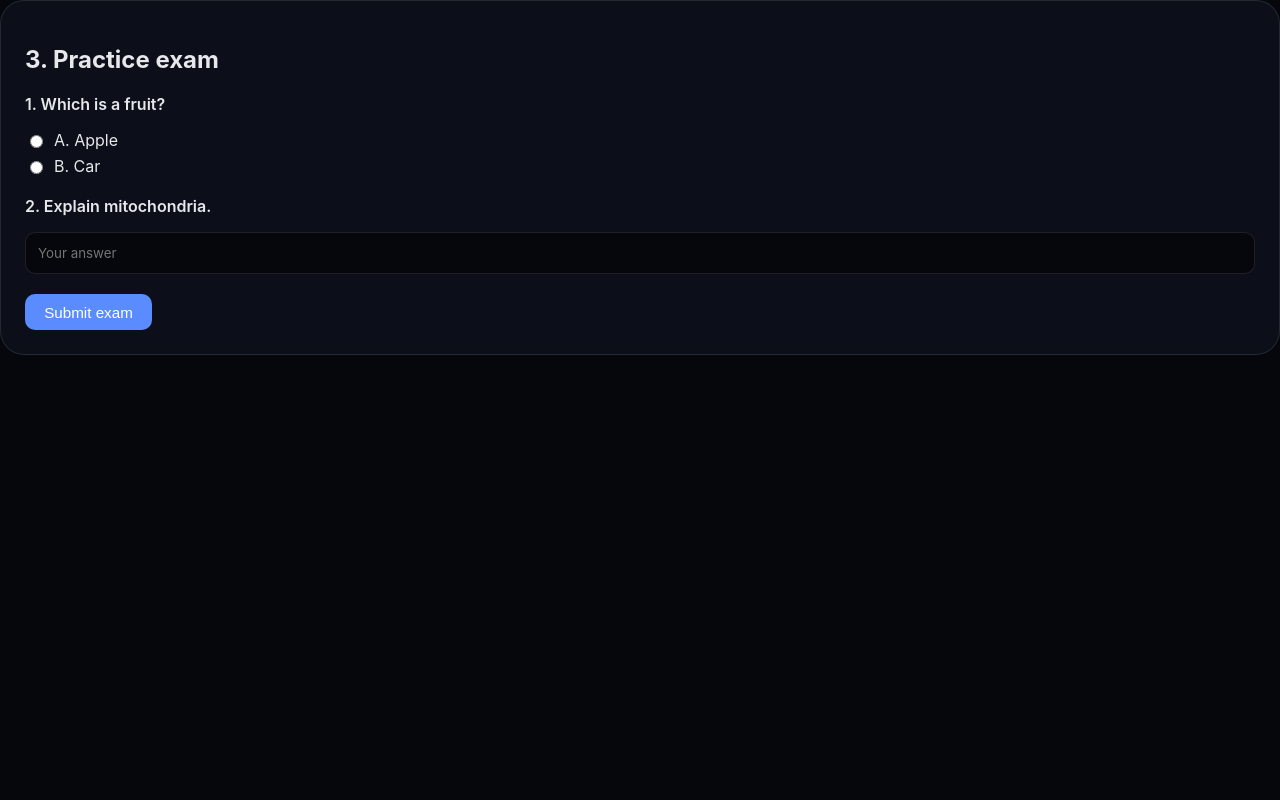
Scenario: ExamPanel › does not award XP when nothing was correct
Click the button "Submit exam" at (88, 312), box [25,294,152,330]
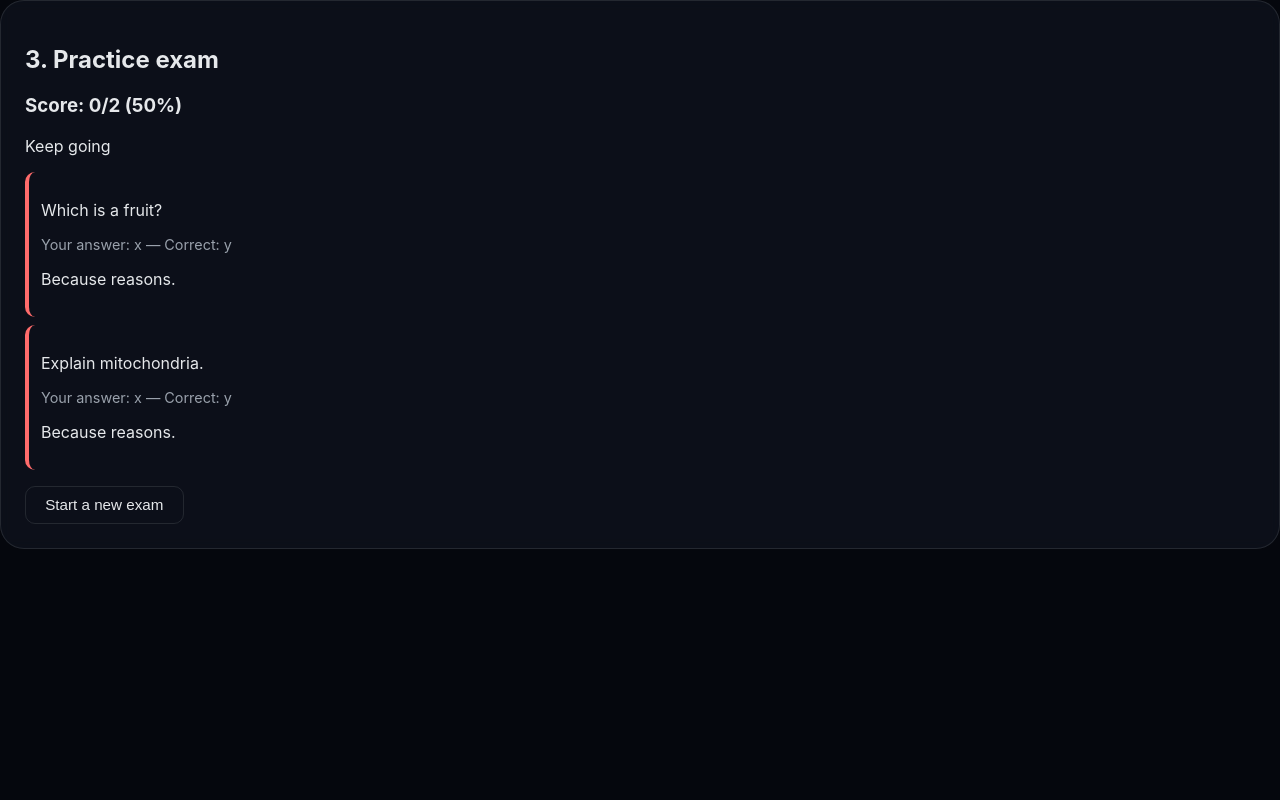
expect the element with test id "grading-report" is shown: met, box [25,94,1255,524]
